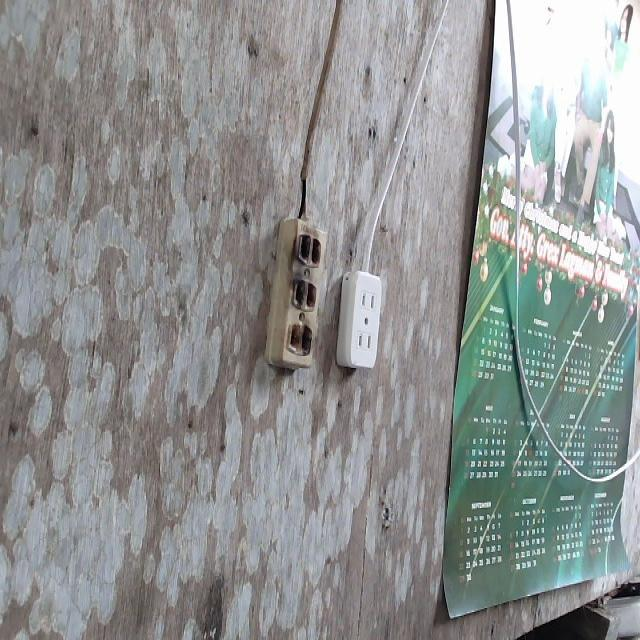-: (283, 226, 319, 366)
